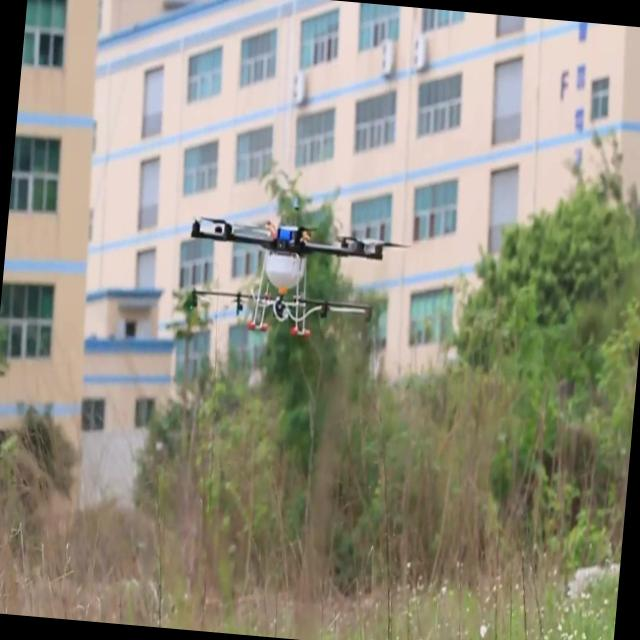drone: (180, 210, 413, 352)
